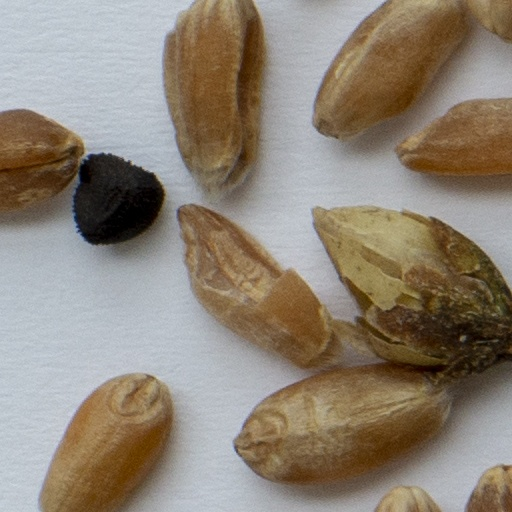Agrostemma-poly: (70, 149, 164, 248)
Peel-poly: (314, 208, 511, 379)
